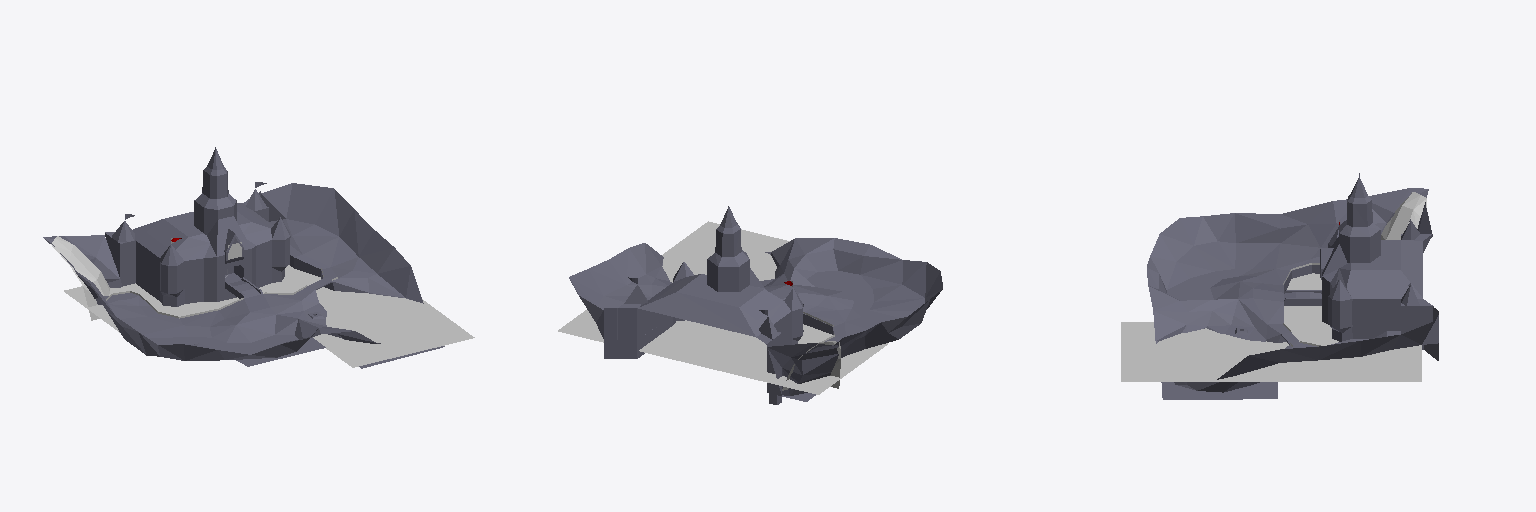
The model's file is princess_peaches_castle_(outside).obj.
3 views of the same model, side by side, from view 1: azimuth 30°, elevation 25°; view 2: azimuth 150°, elevation 25°; view 3: azimuth 270°, elevation 25° (orthographic).
Parts seen in each view (by area): view 1: princess_peaches_castle_(outside); view 2: princess_peaches_castle_(outside); view 3: princess_peaches_castle_(outside).
Part boxes in pixels (x1,y1,x2,y2): princess_peaches_castle_(outside): (43, 147, 474, 368); princess_peaches_castle_(outside): (558, 206, 942, 404); princess_peaches_castle_(outside): (1121, 173, 1438, 399).
Bounding box in the file's own units: 16.44 × 9.96 × 16.22.